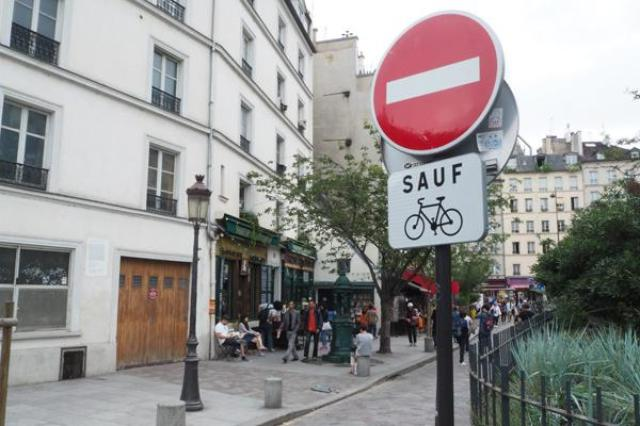B2: (368, 8, 506, 156)
